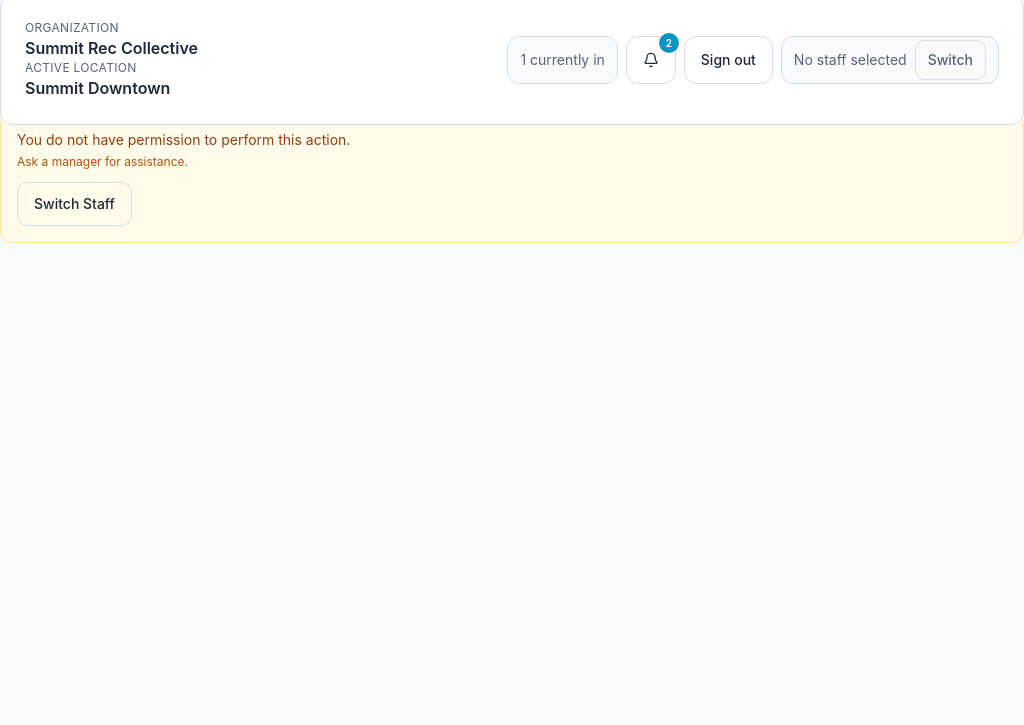
Test: Reports dashboards › owner sees financial cards
The image size is (1024, 725).
Click the button "Switch" at (950, 60), box [915,40,986,80]
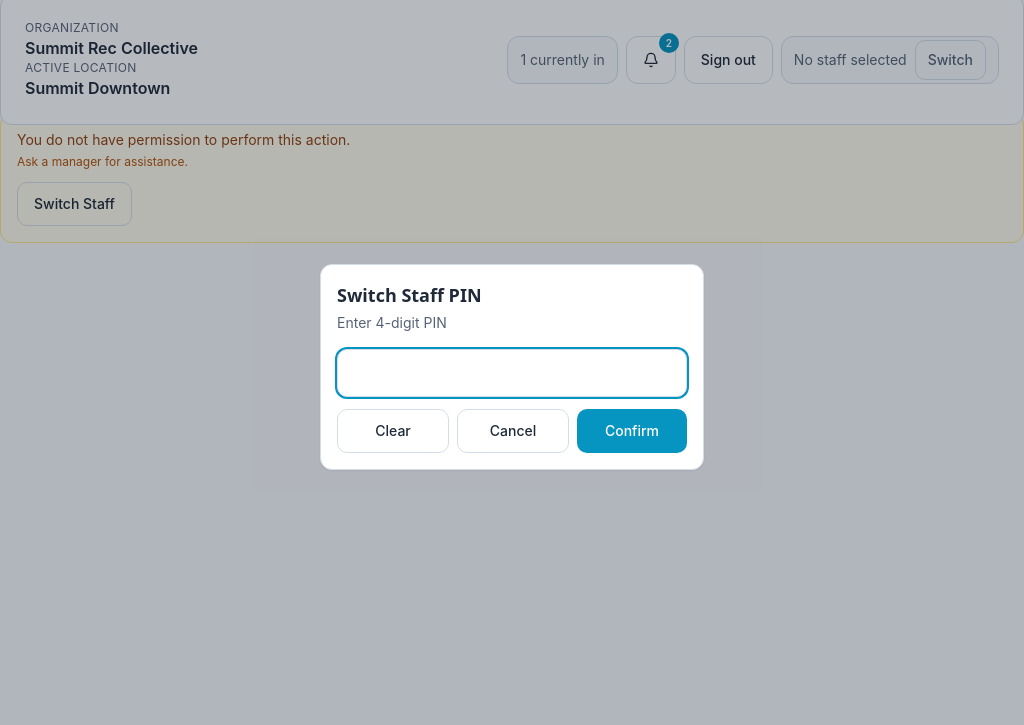
Type "1111" into the password field named "Staff PIN input" at (512, 373), box [337,349,687,397]
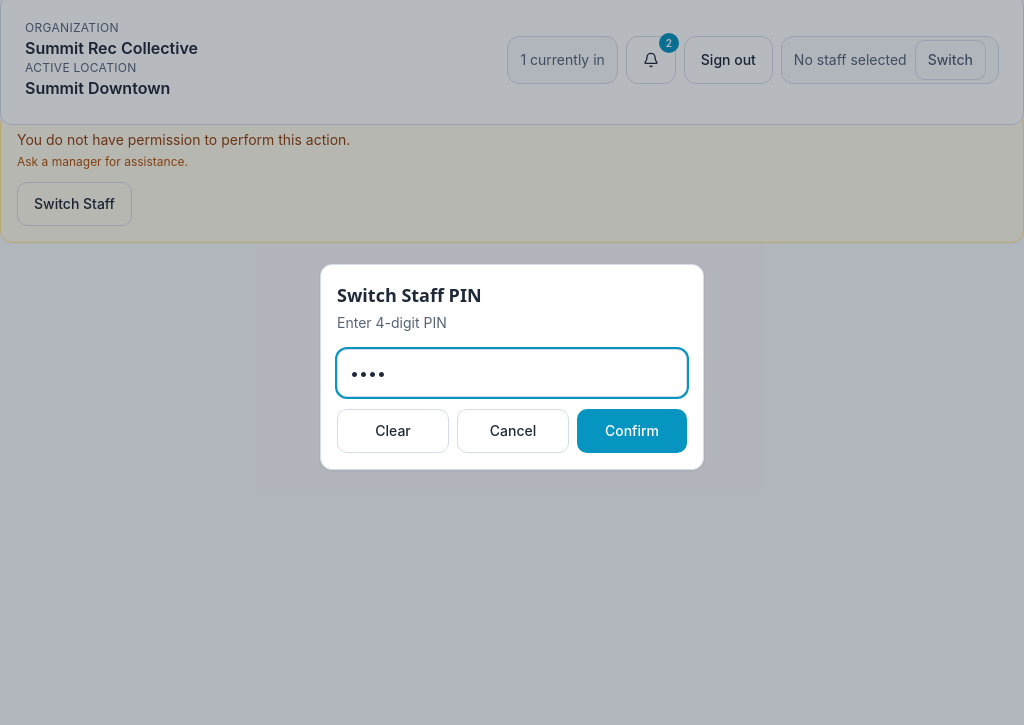
Click the button "Confirm" at (632, 431), box [577,409,687,453]
(page scrolled)
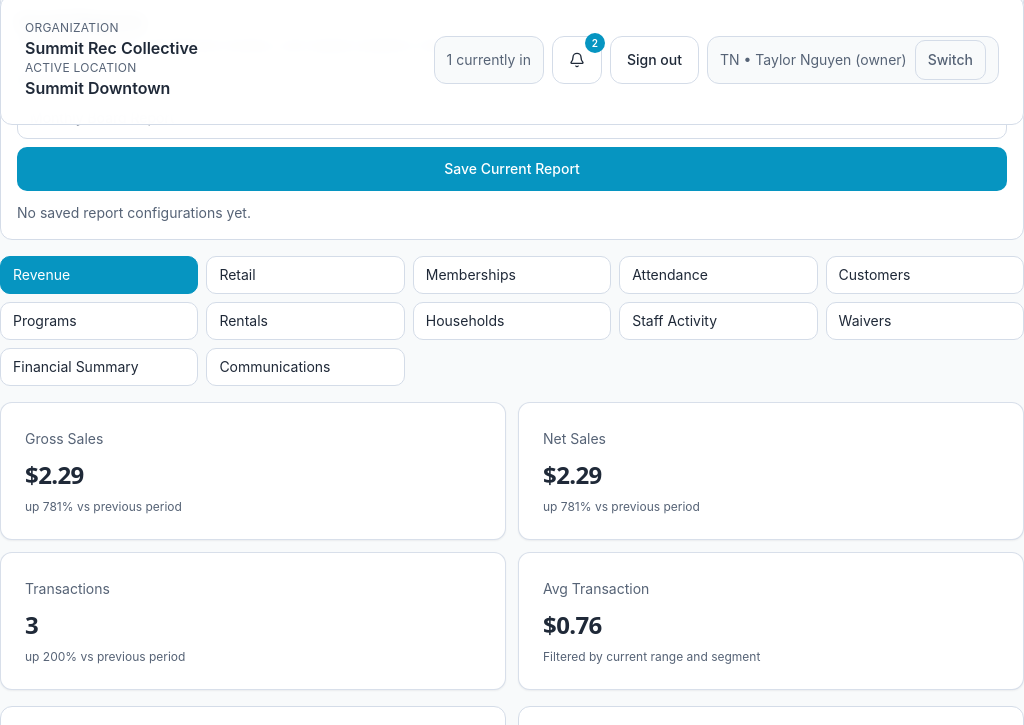
Click the button "Financial Summary" at (99, 367), box [0,348,198,386]
(page scrolled)
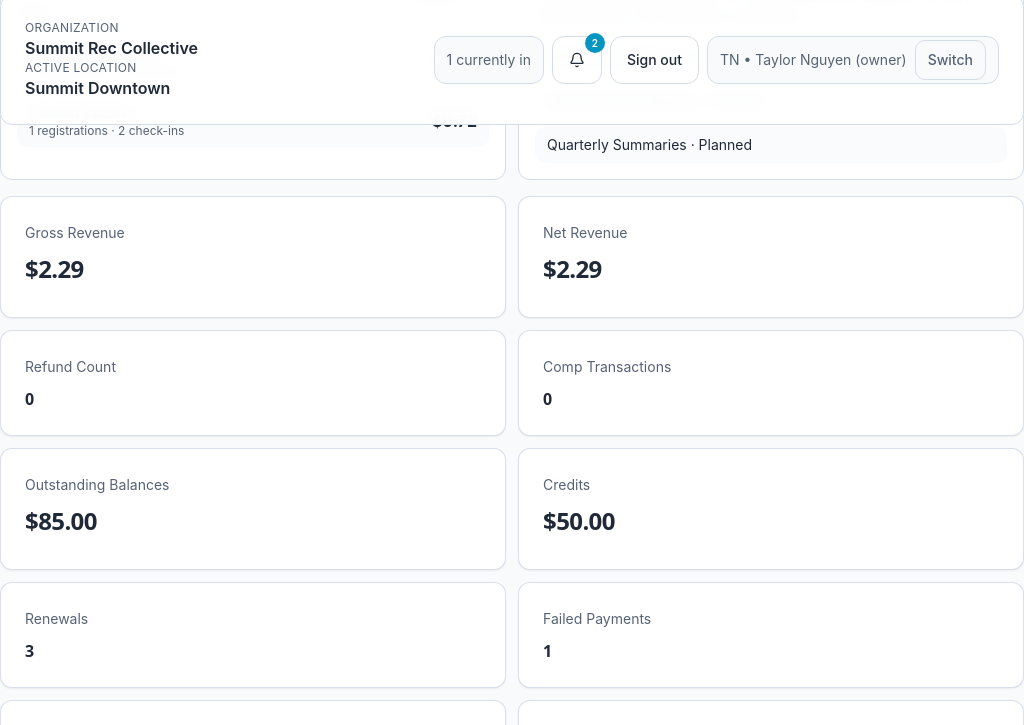
Check: the text "Gross Revenue" is shown, box [25,224,125,241]
Check: the text "Comp Transactions" is shown, box [543,358,671,375]
